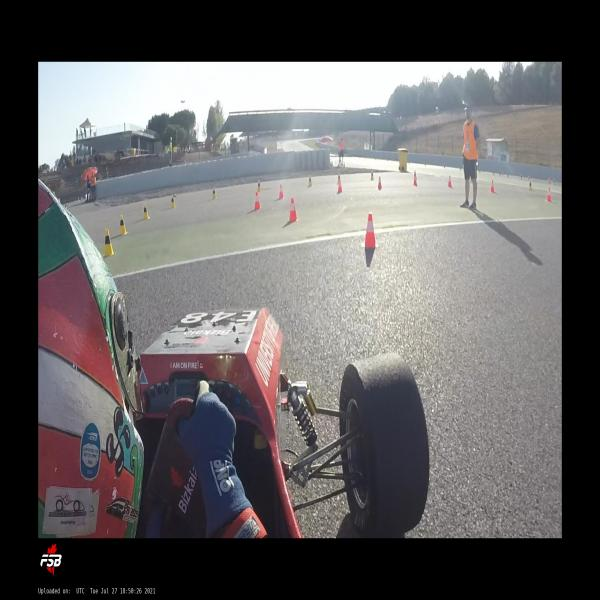orange_cone: (361, 212, 379, 249), (288, 198, 298, 222), (254, 192, 260, 210), (546, 188, 553, 202), (278, 184, 284, 200), (337, 178, 343, 193), (490, 180, 495, 193), (413, 173, 417, 186), (448, 175, 451, 188), (378, 176, 381, 188)
yellow_cone: (102, 228, 115, 258), (119, 215, 129, 236), (143, 203, 150, 220), (170, 195, 176, 208), (257, 179, 261, 192), (212, 187, 216, 200), (308, 176, 312, 187), (528, 180, 532, 190), (370, 170, 374, 180), (337, 173, 340, 184)
